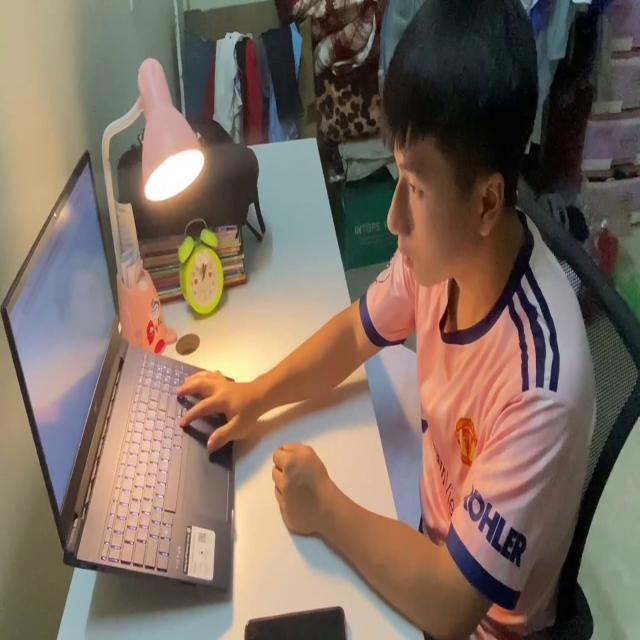book: (360, 342, 425, 534)
laptop: (0, 145, 235, 594)
phone: (243, 602, 349, 640)
student: (176, 0, 596, 640)
